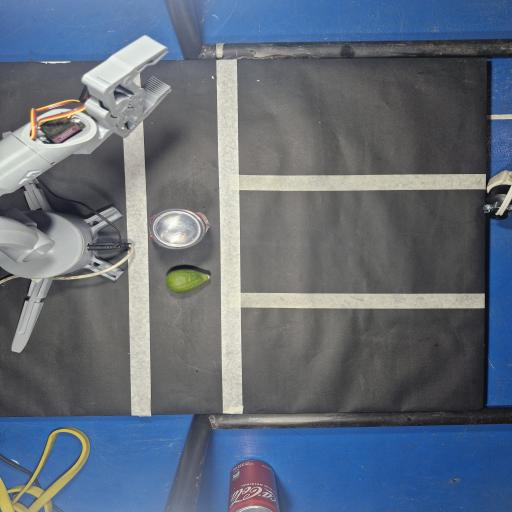higo: (166, 268, 210, 293)
lata_defectuoso: (150, 209, 209, 249)
